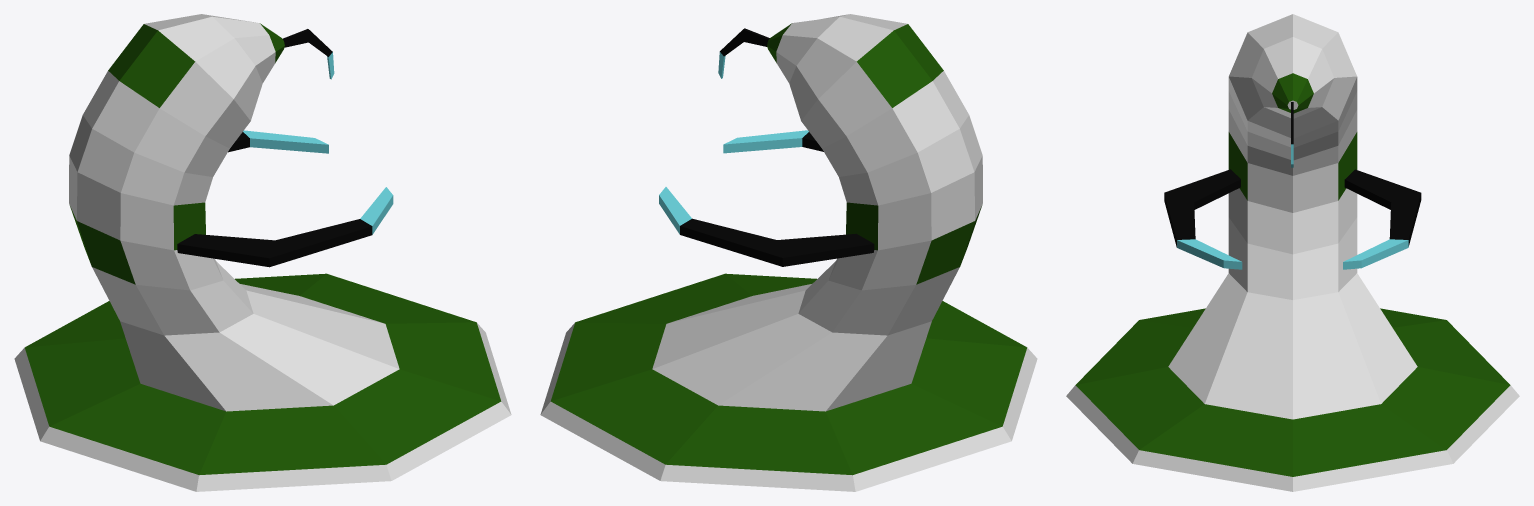
Rendered from Scorpion.fbx.
3 renders of one model, left to right at view 1: azimuth 30°, elevation 25°; view 2: azimuth 150°, elevation 25°; view 3: azimuth 270°, elevation 25°, orthographic. The views are drawn at different scales.
Visible parts, largest first — view 1: Cylinder.003; view 2: Cylinder.003; view 3: Cylinder.003.
Part boxes in pixels (x1,y1,x2,y2): Cylinder.003: (14,14,511,491); Cylinder.003: (540,14,1037,491); Cylinder.003: (1066,14,1519,491).
Bounding box in the file's own units: 200 × 164 × 200.
